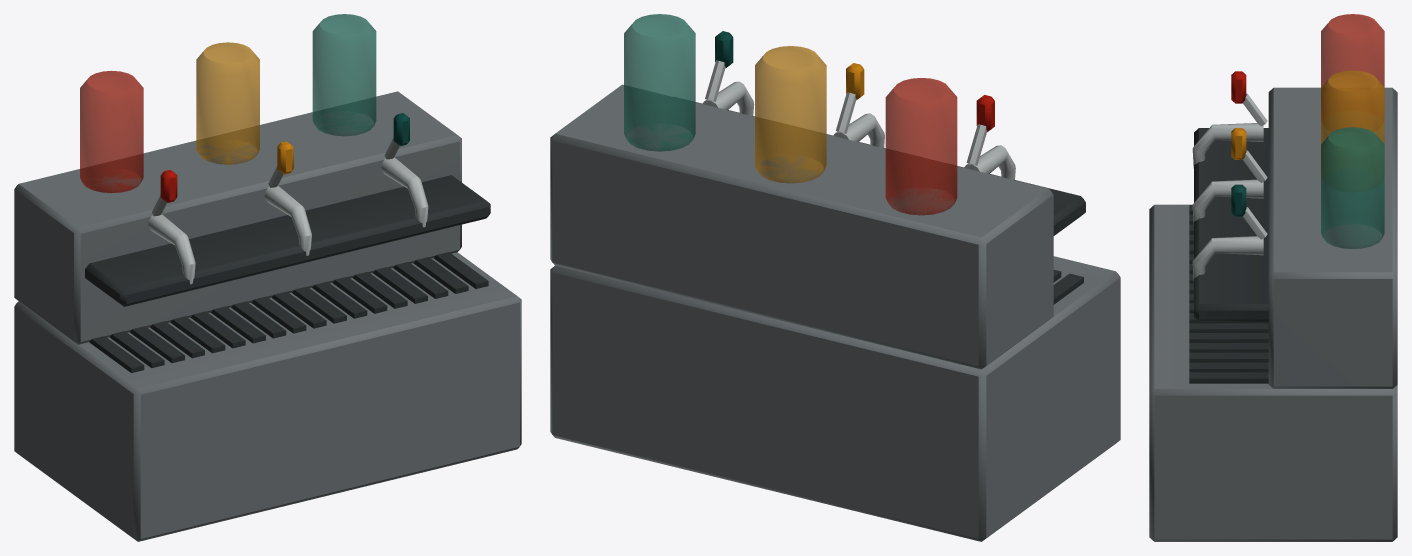
Rendered from rest-soda-fountain.glb.
3 renders of one model, left to right at view 1: azimuth 30°, elevation 25°; view 2: azimuth 150°, elevation 25°; view 3: azimuth 270°, elevation 25°, orthographic. The views are drawn at different scales.
Visible parts, largest first — view 1: body__steel, tanks__glass_tint, nozzles__chrome, levers__plastic; view 2: body__steel, tanks__glass_tint, nozzles__chrome, levers__plastic; view 3: body__steel, tanks__glass_tint, nozzles__chrome, levers__plastic.
Boxes of the visible parts, bbox=[...] form: body__steel: bbox=[14, 91, 521, 541]; tanks__glass_tint: bbox=[80, 14, 376, 193]; nozzles__chrome: bbox=[148, 138, 428, 284]; levers__plastic: bbox=[160, 113, 409, 202]; body__steel: bbox=[550, 84, 1120, 541]; tanks__glass_tint: bbox=[624, 14, 957, 215]; nozzles__chrome: bbox=[702, 60, 1015, 179]; levers__plastic: bbox=[715, 31, 994, 132]; body__steel: bbox=[1149, 87, 1397, 541]; tanks__glass_tint: bbox=[1321, 14, 1384, 248]; nozzles__chrome: bbox=[1192, 93, 1267, 281]; levers__plastic: bbox=[1231, 71, 1246, 216].
Size of the model in its own units: 0.9 by 0.825 by 0.5.
